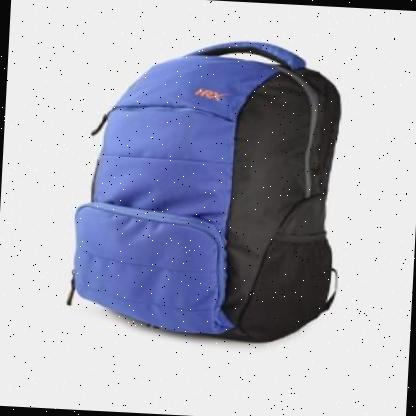bag: (56, 26, 354, 352)
